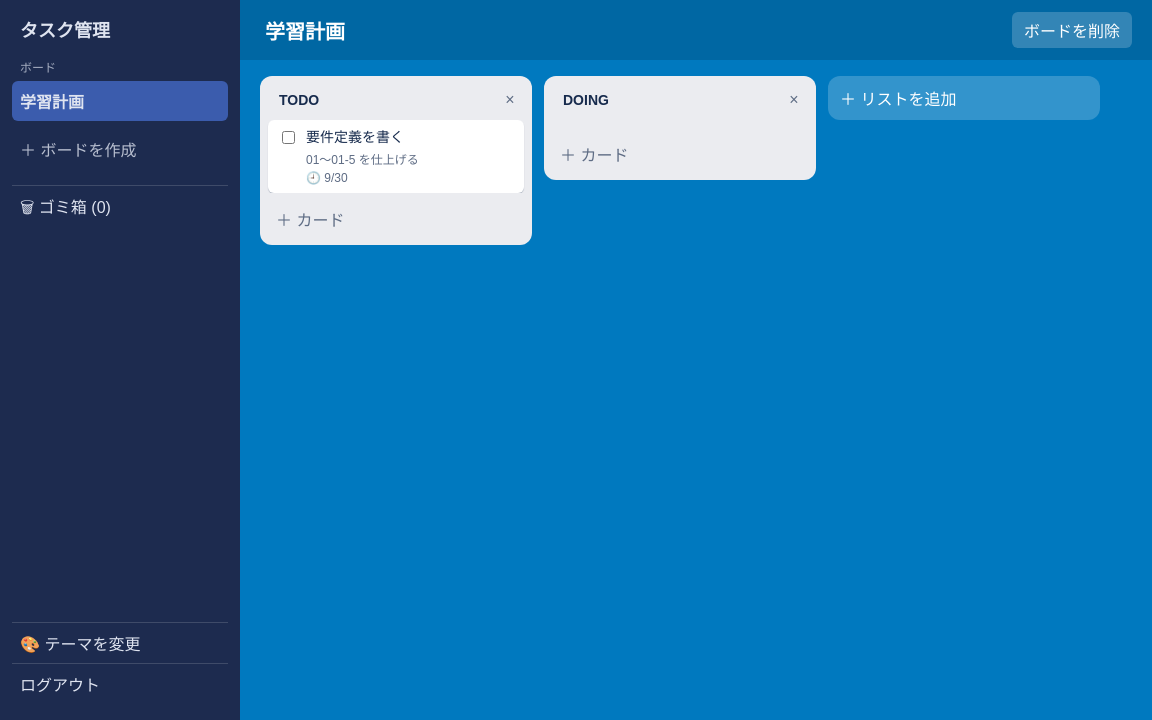
Test case: カードのその場編集（05 画面設計書 4.5） › Esc は変更を破棄して表示に戻す
Click the button with aria-label "要件定義を書く を編集". click: (395, 156)
box: [306,128,484,185]
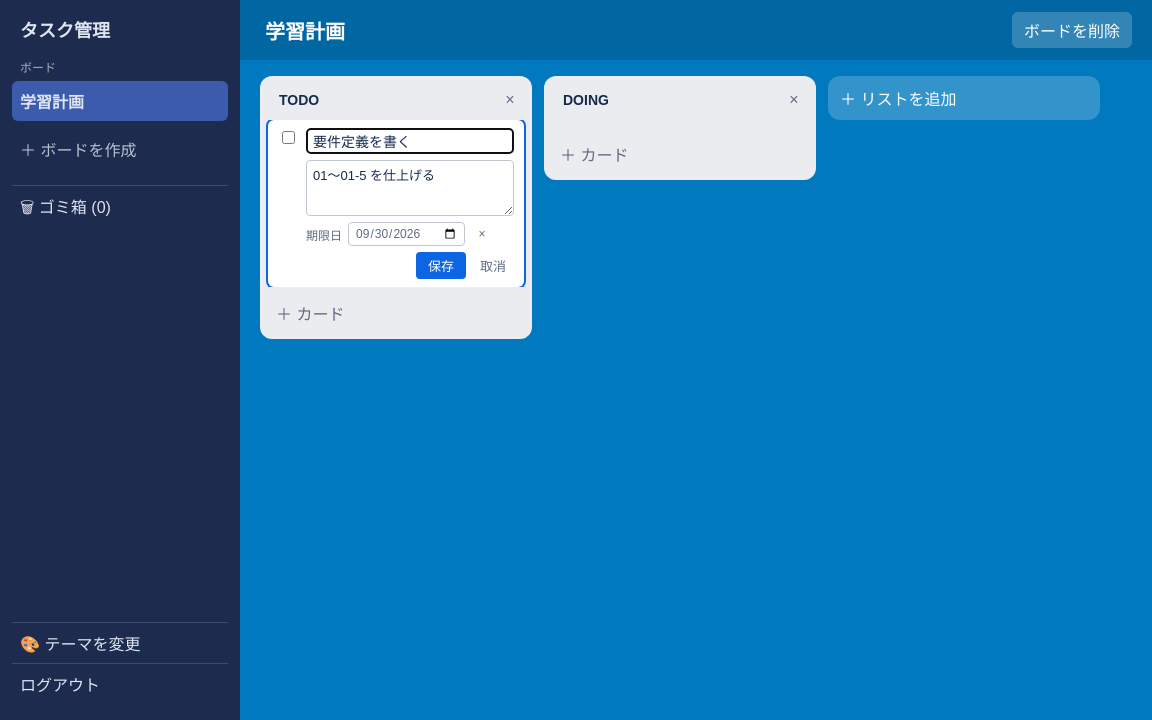
Replace the text in the field named "カードのタイトル" with "書き換えた". click: (410, 141)
box: [306,128,514,154]
Then press Escape
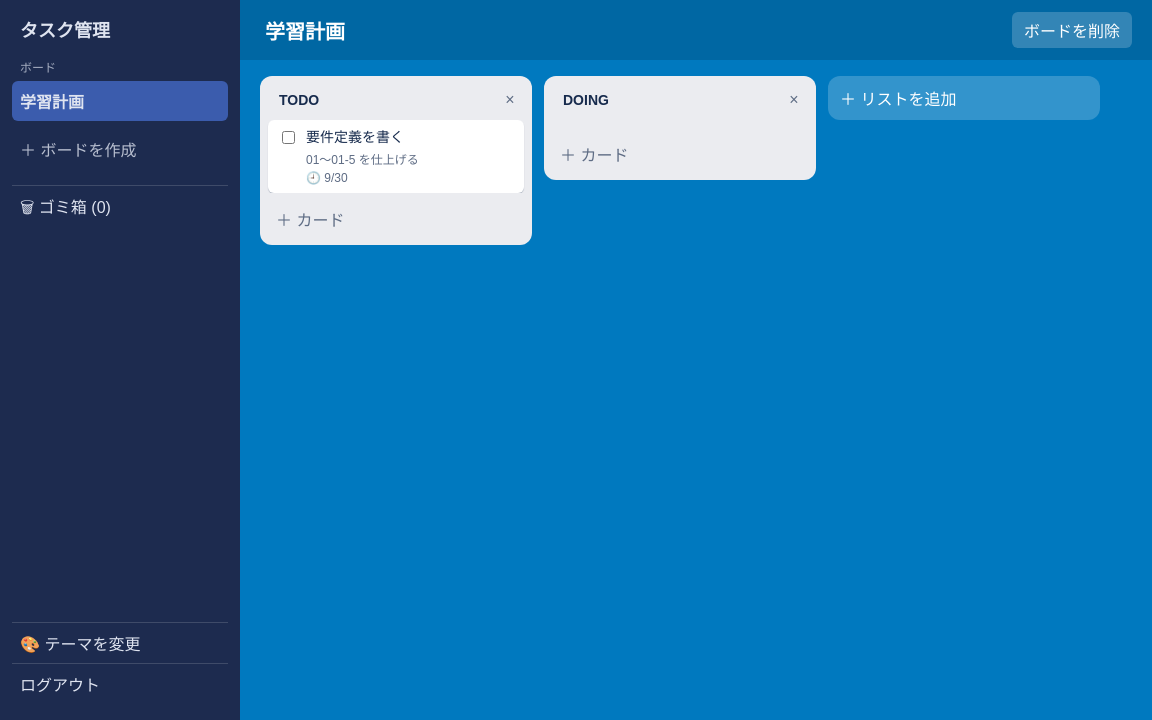
expect the field labelled "カードのタイトル" is gone: met
expect the text "要件定義を書く" is shown: met, box [306,128,404,148]
